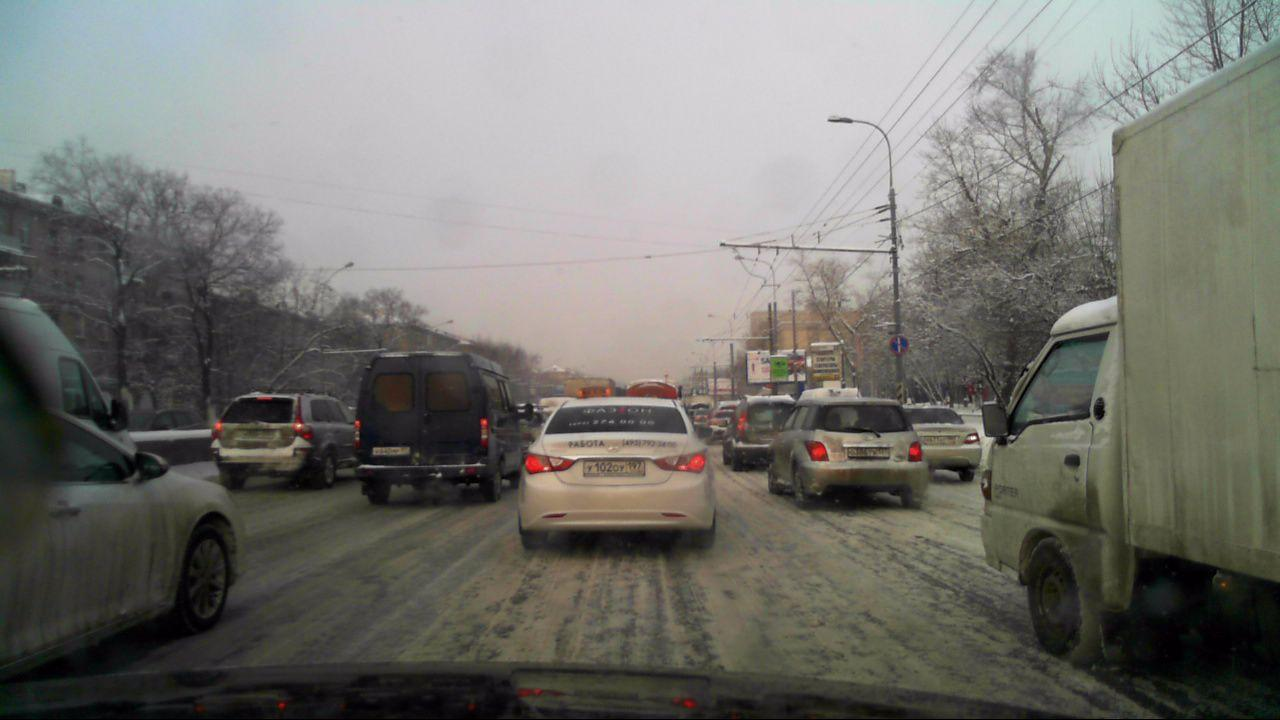3_29: (889, 332, 912, 356)
